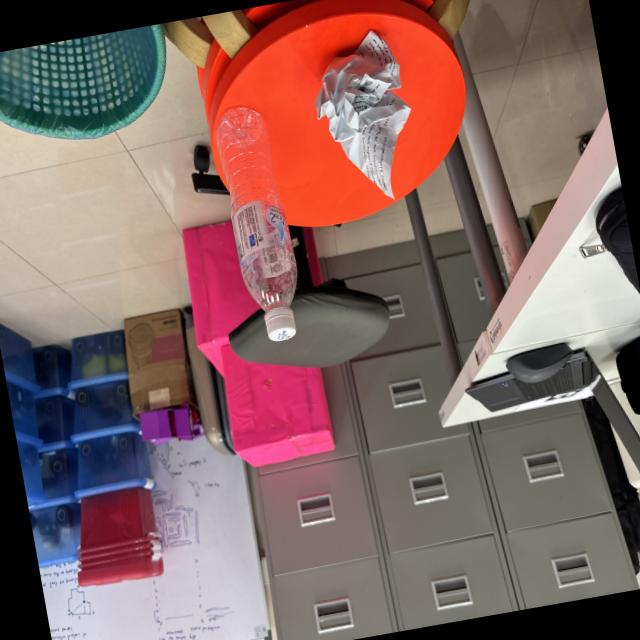crumpled_paper: (296, 20, 428, 218)
plastic_bottle: (204, 93, 312, 354)
